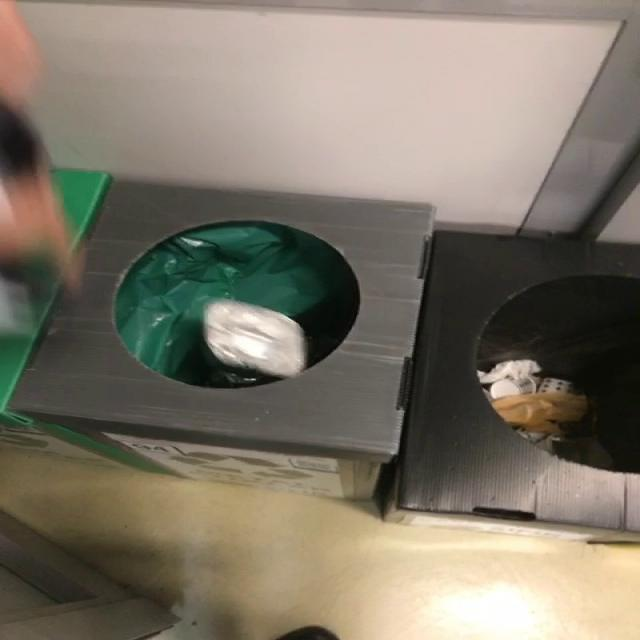bin: (12, 181, 640, 532)
metal: (203, 300, 307, 378)
